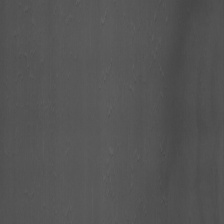silk_spot: (98, 66, 155, 122), (134, 15, 167, 63)
